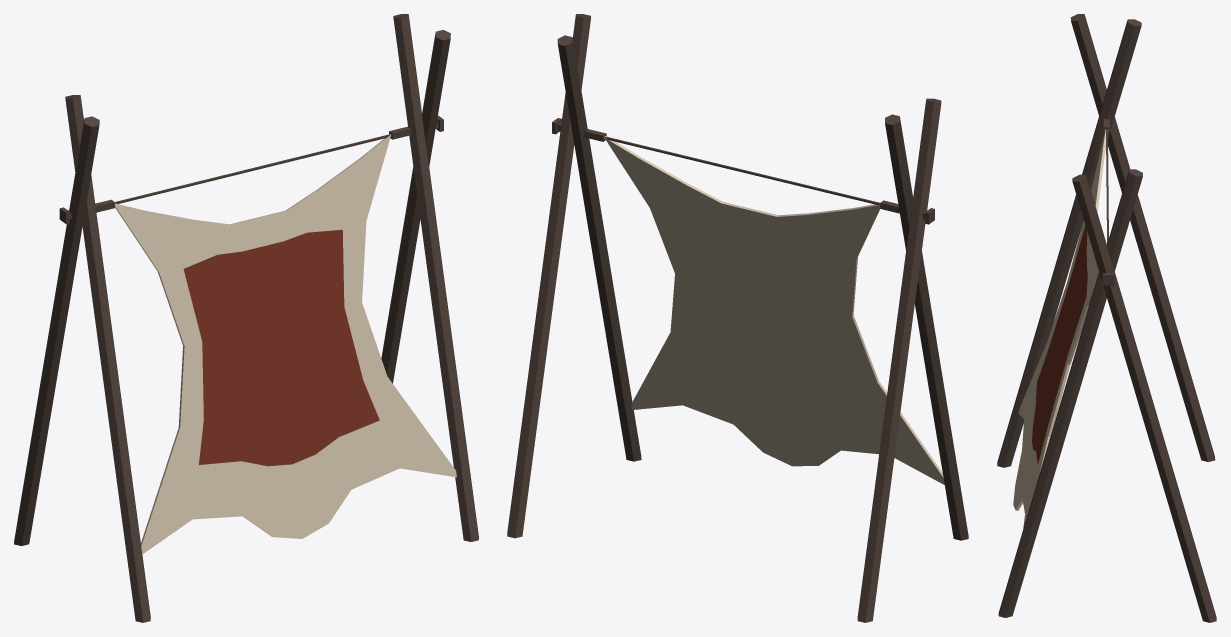
File: Drying_skins_1.fbx
The picture shows the model from 3 angles, left to right: view 1: azimuth 30°, elevation 25°; view 2: azimuth 150°, elevation 25°; view 3: azimuth 270°, elevation 25°; orthographic projection. The views are drawn at different scales.
Visible parts, largest first — view 1: Drying_skins_1; view 2: Drying_skins_1; view 3: Drying_skins_1.
Boxes of the visible parts, left/top/right/bottom form: Drying_skins_1: left=14, top=14, right=478, bottom=622; Drying_skins_1: left=507, top=14, right=968, bottom=622; Drying_skins_1: left=997, top=14, right=1216, bottom=622.
Bounding box in the file's own units: 140 × 74.87 × 167.
